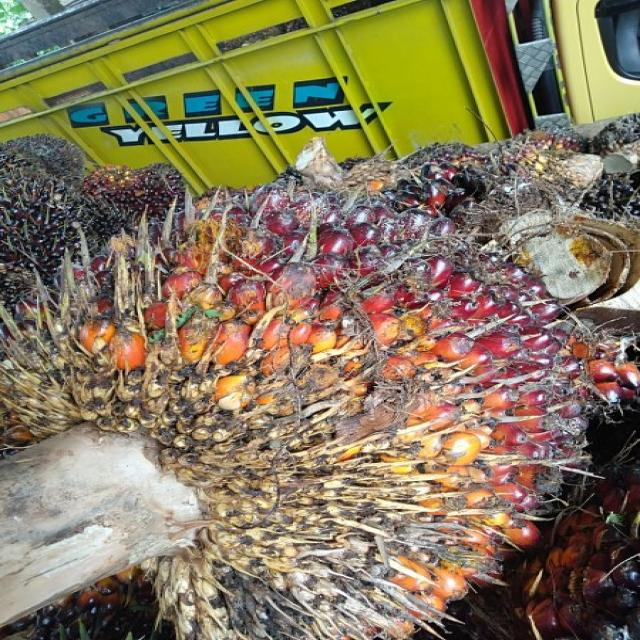fraksi 1: (30, 165, 599, 640)
